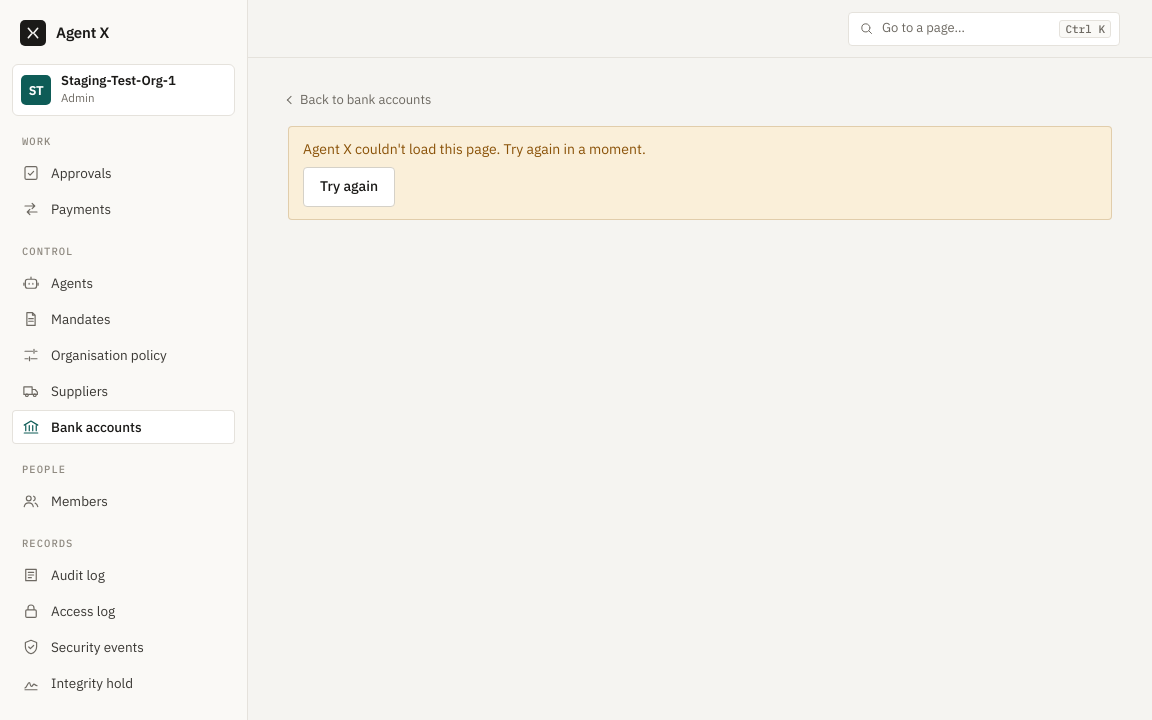
Test: a bank account’s page (6D4a) › offers to read again an account that couldn’t be read
Step 1. Click the button "Try again" → (349, 187), box [303,167,395,207]
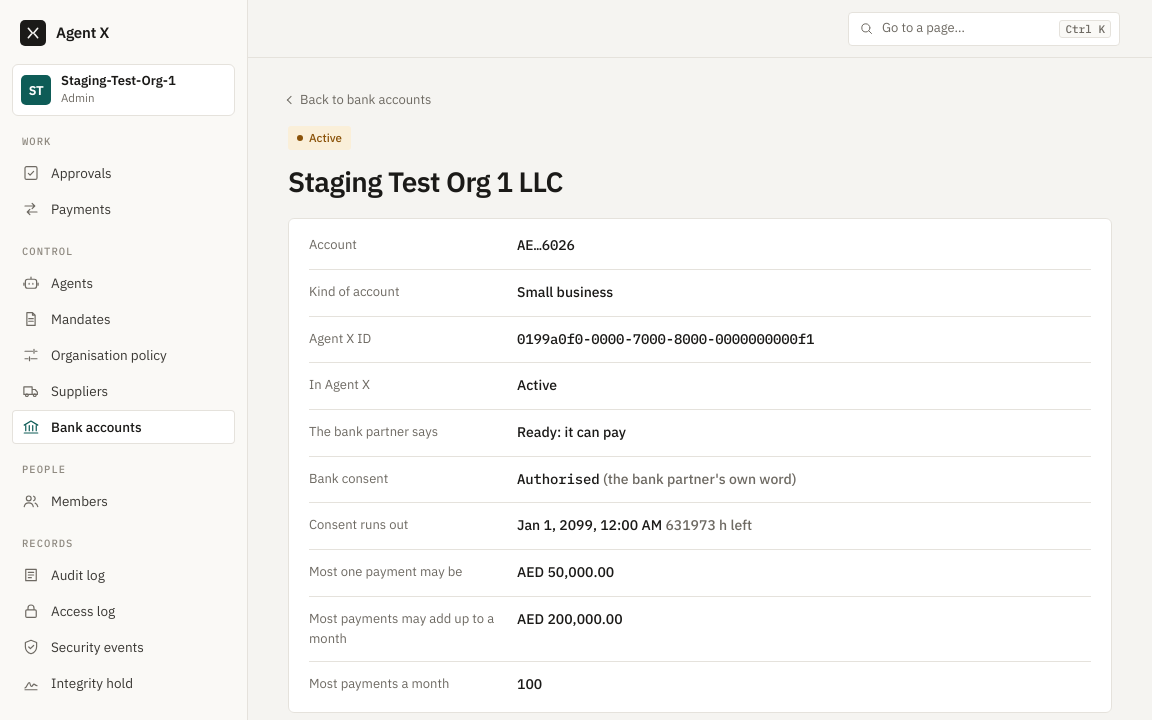
Expected: the heading "Staging Test Org 1 LLC" is shown, [288,163,563,200]
